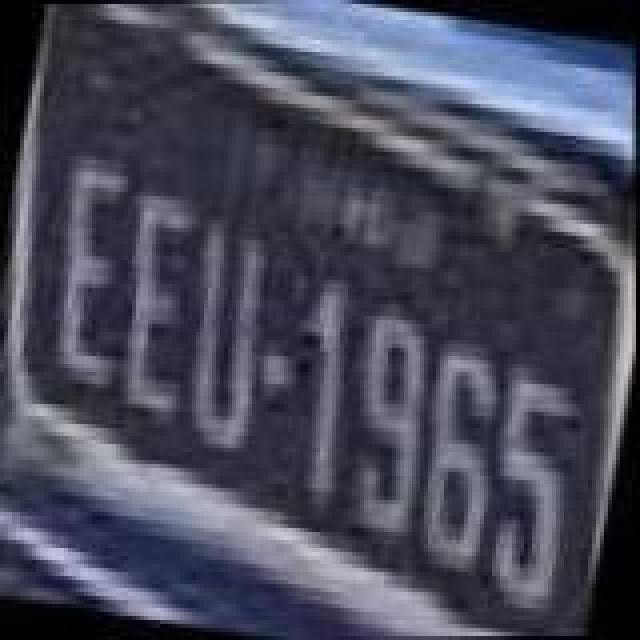1: (270, 266, 382, 510)
5: (468, 368, 600, 624)
6: (398, 346, 522, 578)
9: (330, 300, 458, 544)
E: (28, 154, 156, 398), (94, 184, 218, 428)
U: (164, 214, 292, 462)
